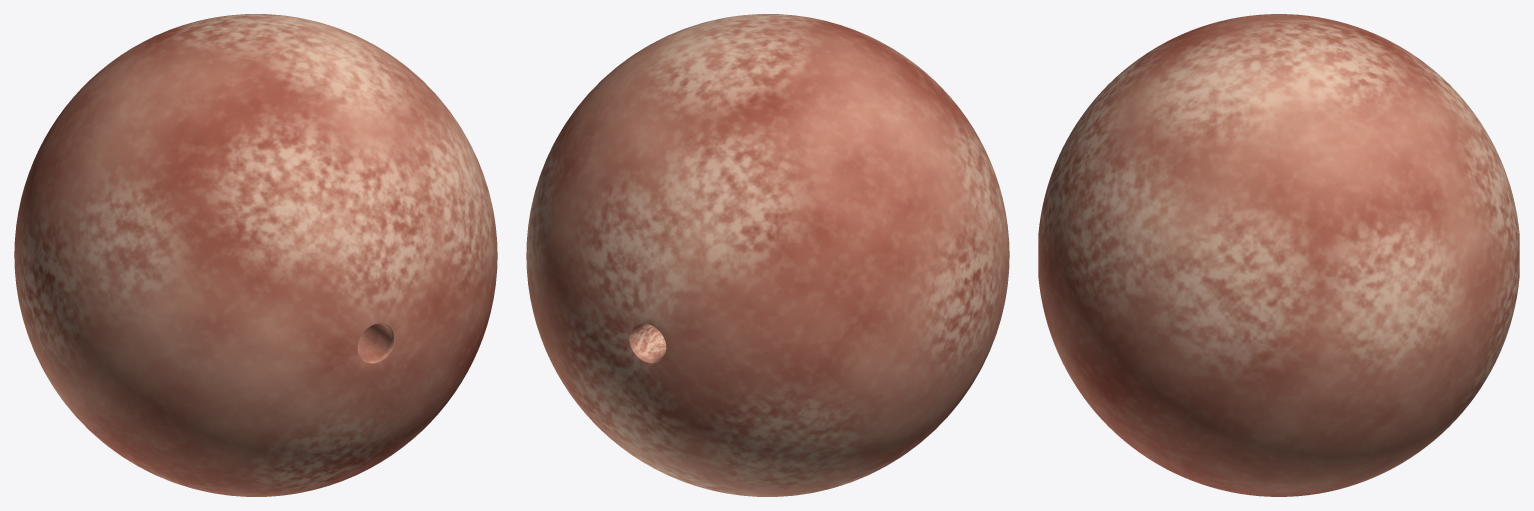
The model's file is flower-agate-12mm.glb.
3 renders of one model, left to right at view 1: azimuth 30°, elevation 25°; view 2: azimuth 150°, elevation 25°; view 3: azimuth 270°, elevation 25°, orthographic.
Visible parts, largest first — view 1: flower-agate.001; view 2: flower-agate.001; view 3: flower-agate.001.
Part boxes in pixels (x1,y1,x2,y2): flower-agate.001: (14, 14, 497, 496); flower-agate.001: (526, 14, 1009, 496); flower-agate.001: (1038, 14, 1519, 496).
Size of the model in its own units: 0.012 by 0.012 by 0.012.
Materials: 2 (1 with a texture image).
